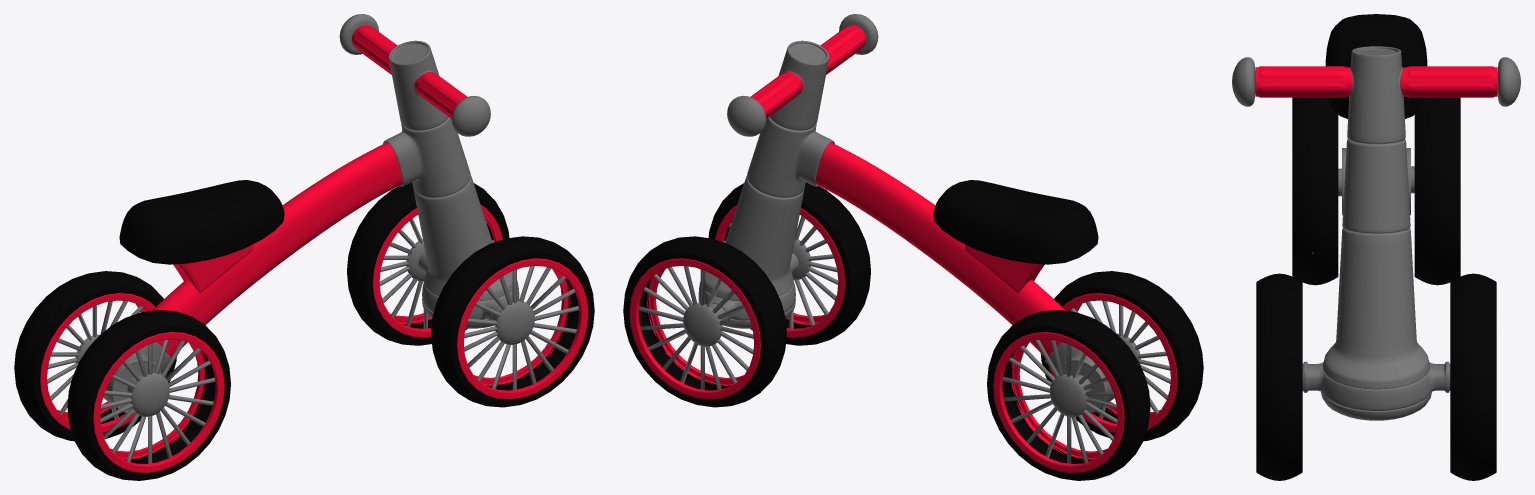
File: Rower.fbx
The picture shows the model from 3 angles, left to right: view 1: azimuth 30°, elevation 25°; view 2: azimuth 150°, elevation 25°; view 3: azimuth 270°, elevation 25°; orthographic projection. The views are drawn at different scales.
Visible parts, largest first — view 1: Cylinder.002, Cylinder.001, Cylinder.006, Cylinder.004, Cube, Cylinder.024, Cylinder.008, Cylinder.005, Cylinder.007, Cylinder.009, Cube.001; view 2: Cylinder.002, Cylinder.001, Cylinder.006, Cylinder.004, Cube, Cylinder.007, Cylinder.009, Cylinder.005, Cylinder.024, Cylinder.008, Cube.001; view 3: Cylinder.002, Cylinder.001, Cylinder.005, Cube.
Boxes of the visible parts, left/top/right/bottom form: Cylinder.002: left=14, top=182, right=594, bottom=480; Cylinder.001: left=103, top=14, right=519, bottom=413; Cylinder.006: left=40, top=205, right=588, bottom=473; Cylinder.004: left=152, top=142, right=402, bottom=357; Cube: left=119, top=180, right=284, bottom=264; Cylinder.024: left=464, top=266, right=578, bottom=389; Cylinder.008: left=100, top=339, right=214, bottom=463; Cylinder.005: left=351, top=25, right=467, bottom=118; Cylinder.007: left=379, top=219, right=493, bottom=328; Cylinder.009: left=47, top=301, right=143, bottom=419; Cube.001: left=173, top=244, right=252, bottom=293; Cylinder.002: left=623, top=182, right=1203, bottom=480; Cylinder.001: left=698, top=14, right=1114, bottom=413; Cylinder.006: left=629, top=205, right=1177, bottom=473; Cylinder.004: left=815, top=142, right=1065, bottom=355; Cube: left=933, top=180, right=1098, bottom=264; Cylinder.007: left=639, top=266, right=753, bottom=389; Cylinder.009: left=1003, top=340, right=1117, bottom=463; Cylinder.005: left=750, top=25, right=866, bottom=118; Cylinder.024: left=724, top=216, right=838, bottom=328; Cylinder.008: left=1070, top=300, right=1170, bottom=419; Cube.001: left=965, top=244, right=1044, bottom=293; Cylinder.002: left=1256, top=97, right=1496, bottom=480; Cylinder.001: left=1232, top=46, right=1520, bottom=420; Cylinder.005: left=1255, top=66, right=1497, bottom=97; Cube: left=1325, top=14, right=1427, bottom=118.
Bounding box in the file's own units: 58.07 × 37.39 × 25.01.
